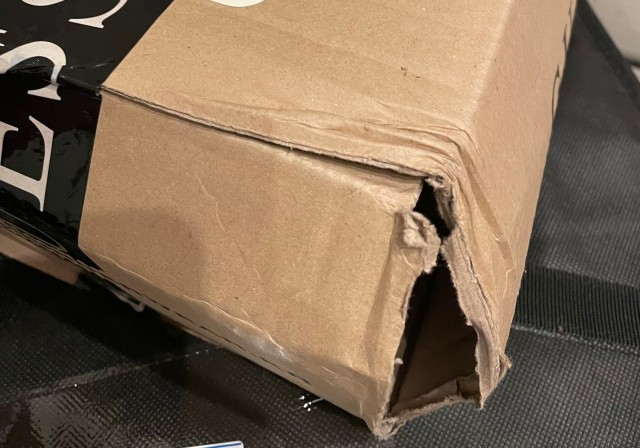damaged package: (374, 169, 482, 433)
